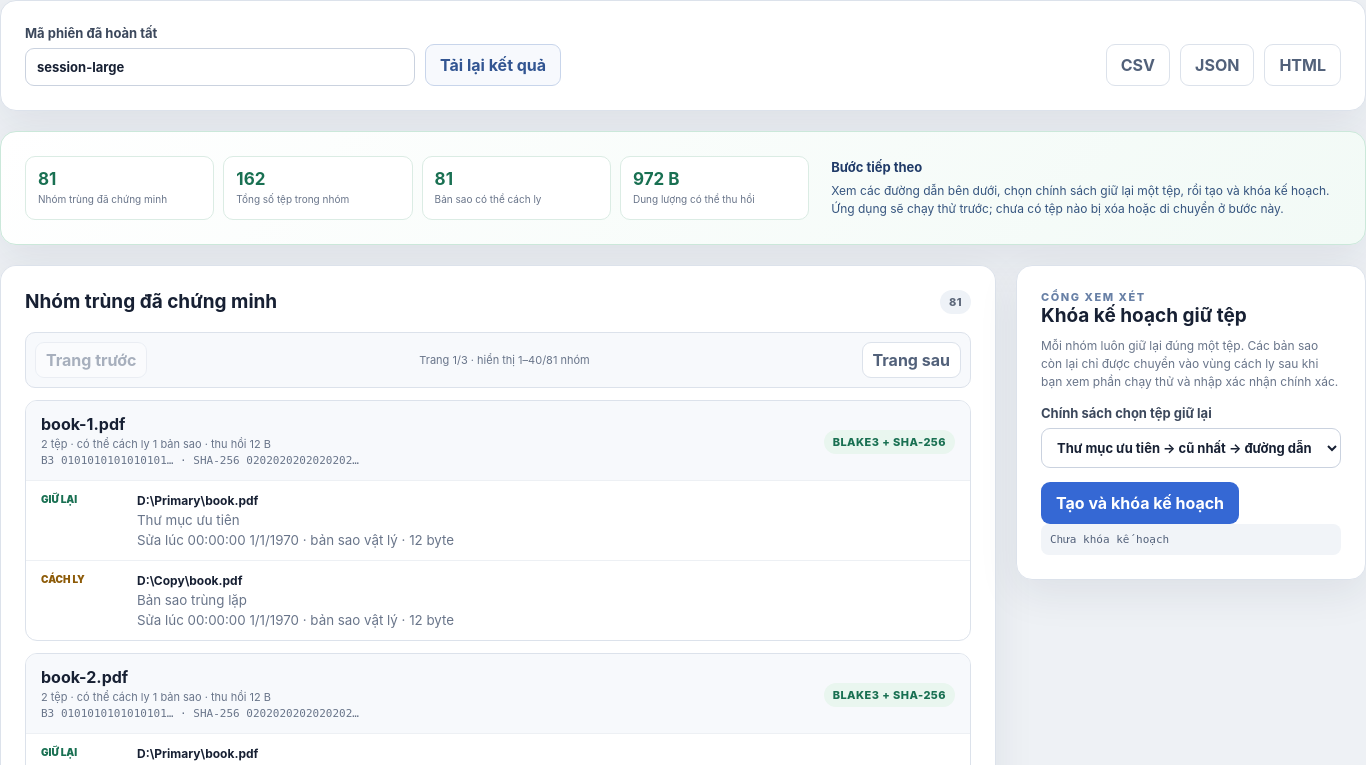
Test: desktop workflows › renders large result sets in bounded pages
Expected: the text "book-41.pdf" is not shown
Click the button "Trang sau": (911, 360) left=862, top=342, right=961, bottom=378
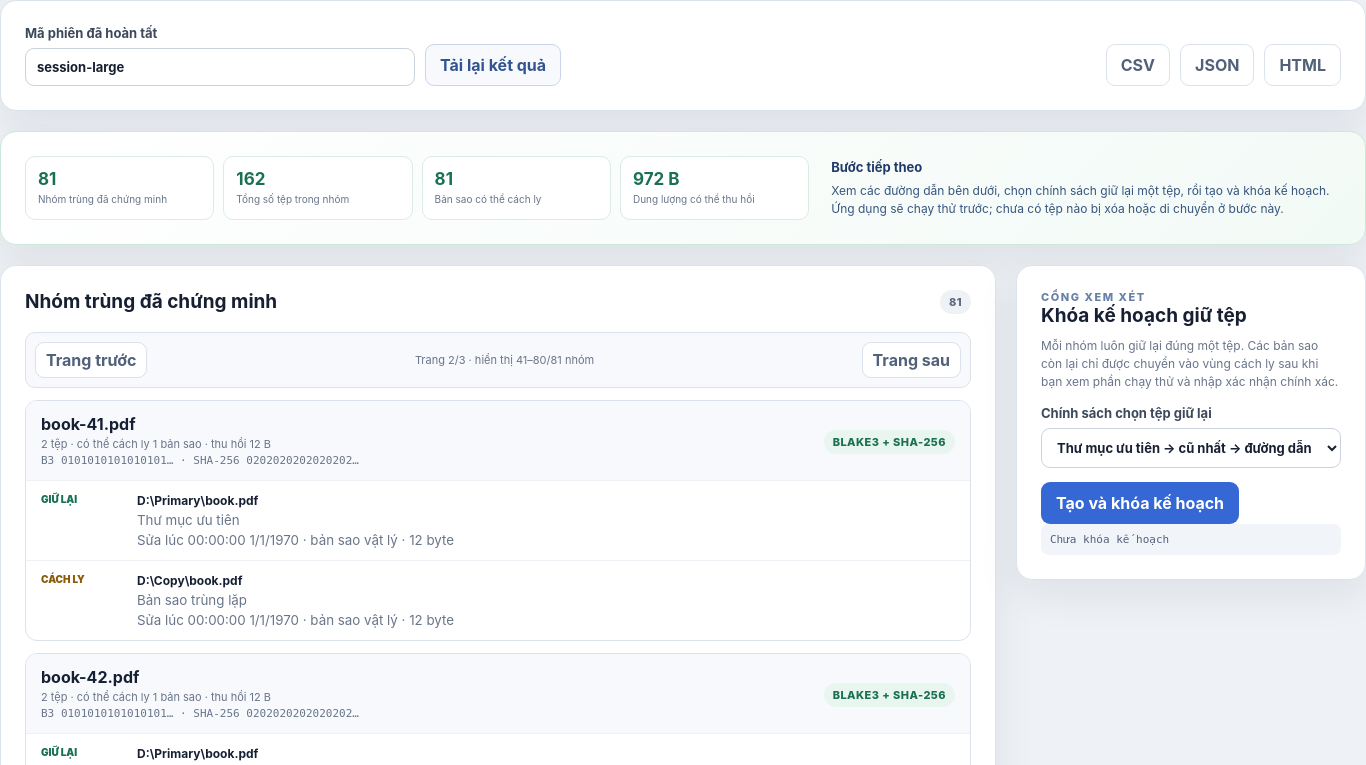
Result: the text "Trang 2/3 · hiển thị 41–80/81 nhóm" is shown at left=415, top=352, right=594, bottom=366
Result: the text "book-41.pdf" is shown at left=41, top=414, right=136, bottom=434
Result: the text "book-1.pdf" is gone
